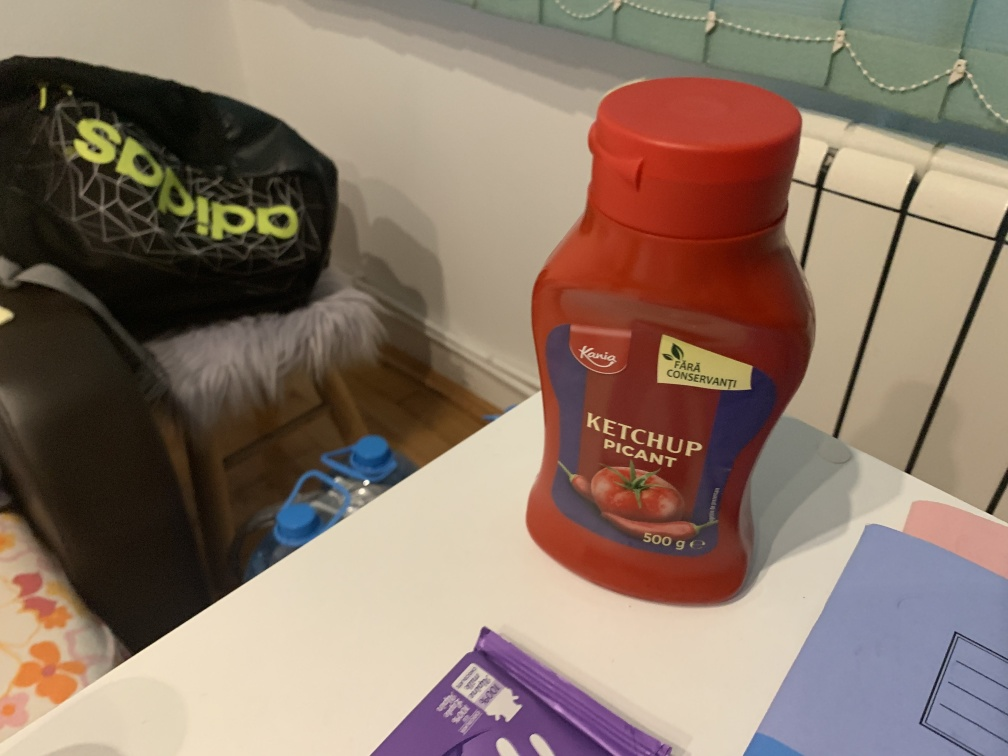ketchup: (524, 72, 822, 622)
milka: (328, 627, 719, 756)
